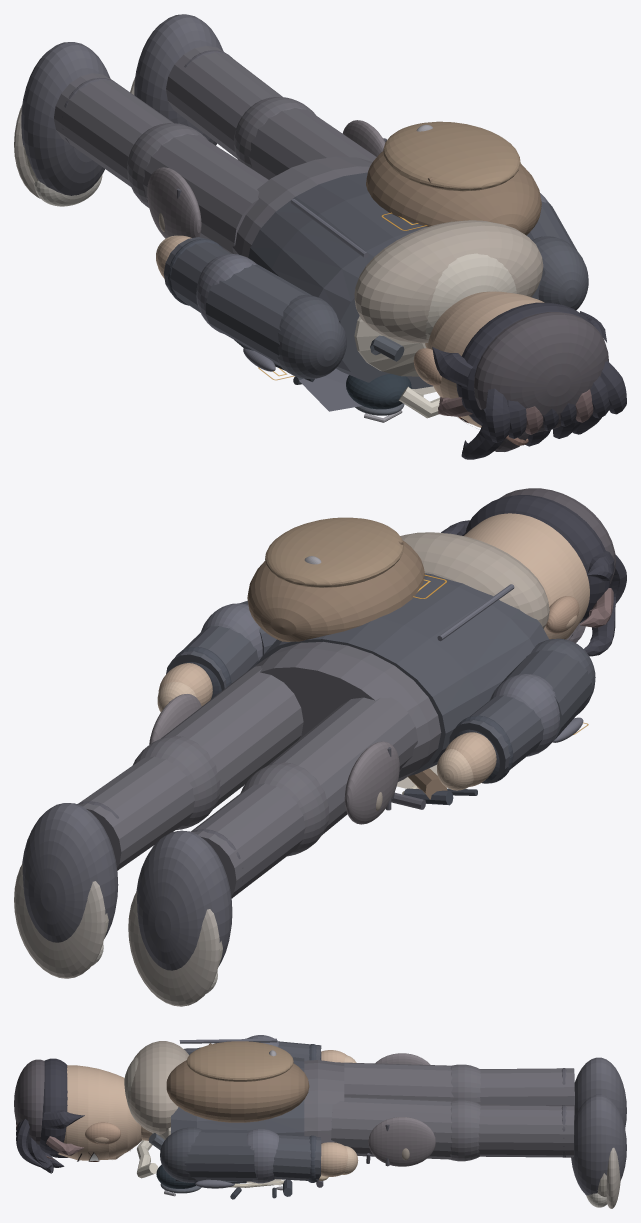
The model's file is wei_chen_hybrid_vtk_v2.glb.
3 views of the same model, one above another, from view 1: azimuth 30°, elevation 25°; view 2: azimuth 150°, elevation 25°; view 3: azimuth 270°, elevation 25° (orthographic). The views are drawn at different scales.
Visible parts, largest first — view 1: mat_393740, mat_23252e, mat_30303b, mat_9e8b7b, mat_29252b, mat_14141b, mat_7e5c41, mat_614532, mat_c8b9a6, mat_ce9a77, mat_383947, mat_504850 (+7 smaller); view 2: mat_393740, mat_23252e, mat_30303b, mat_614532, mat_b8a99d, mat_ce9a77, mat_7e5c41, mat_9e8b7b, mat_14141b, mat_383947, mat_504850, mat_1b1e27 (+5 smaller); view 3: mat_393740, mat_23252e, mat_ce9a77, mat_30303b, mat_614532, mat_9e8b7b, mat_7e5c41, mat_14141b, mat_504850, mat_383947, mat_29252b, mat_b8a99d (+9 smaller).
Boxes of the visible parts, x1,y1,x2,y2 form: mat_393740: (54, 45, 376, 257); mat_23252e: (163, 172, 588, 388); mat_30303b: (21, 14, 223, 195); mat_9e8b7b: (354, 220, 543, 343); mat_29252b: (473, 312, 608, 451); mat_14141b: (432, 302, 626, 459); mat_7e5c41: (383, 121, 520, 191); mat_614532: (366, 151, 541, 235); mat_c8b9a6: (354, 253, 516, 394); mat_ce9a77: (156, 235, 544, 427); mat_383947: (196, 193, 548, 411); mat_504850: (147, 120, 385, 238); mat_393740: (79, 641, 441, 898); mat_23252e: (166, 573, 595, 783); mat_30303b: (22, 803, 232, 970); mat_614532: (247, 540, 447, 799); mat_b8a99d: (14, 863, 219, 1006); mat_ce9a77: (158, 513, 589, 786); mat_7e5c41: (265, 517, 403, 587); mat_9e8b7b: (400, 532, 549, 628); mat_14141b: (441, 495, 626, 656); mat_383947: (201, 584, 583, 756); mat_504850: (149, 694, 399, 824); mat_1b1e27: (175, 647, 513, 805); mat_393740: (304, 1060, 574, 1161); mat_23252e: (160, 1038, 321, 1182); mat_ce9a77: (58, 1050, 347, 1176); mat_30303b: (571, 1057, 626, 1195); mat_614532: (166, 1043, 309, 1122); mat_9e8b7b: (130, 1041, 189, 1134); mat_7e5c41: (186, 1041, 293, 1081); mat_14141b: (16, 1058, 84, 1173); mat_504850: (368, 1053, 435, 1166); mat_383947: (179, 1035, 278, 1188); mat_29252b: (14, 1059, 44, 1144); mat_b8a99d: (606, 1147, 620, 1208).
Bounding box in the file's own units: 0.848 × 0.5363 × 1.91.
Materials: 2 (2 with a texture image).
